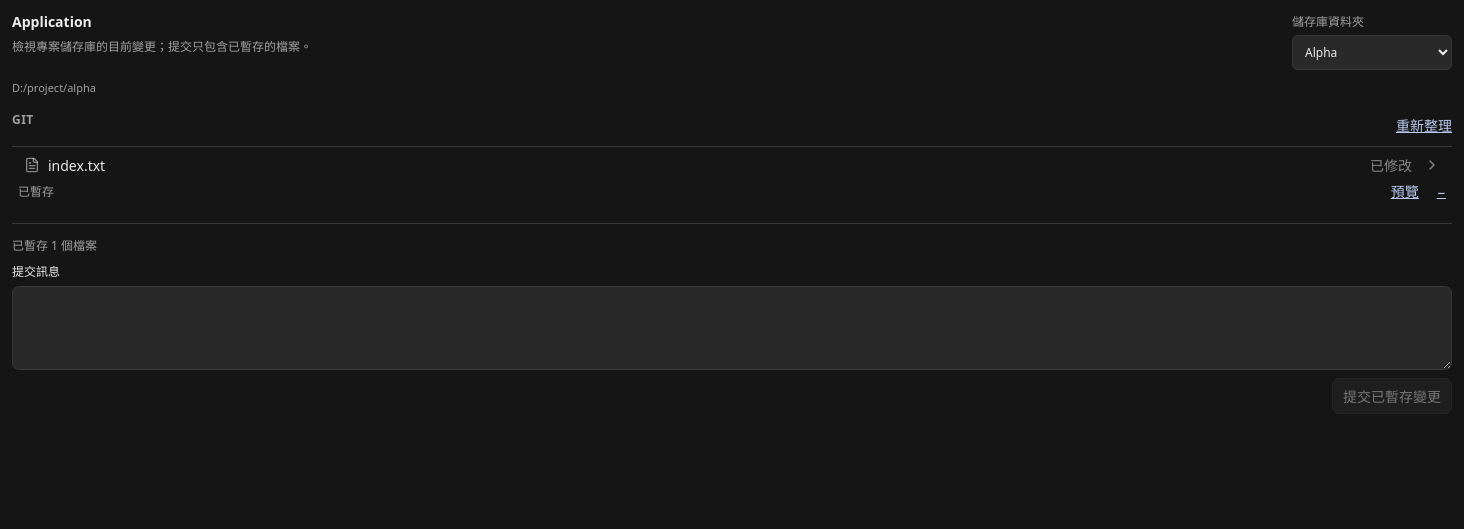
it: ProjectGitPane › preserves the submitted draft and displays the native Git failure reason
Type "Unsent draft" into the text box labelled "提交訊息" at (732, 328), box x1=12 y1=286 x2=1452 y2=370
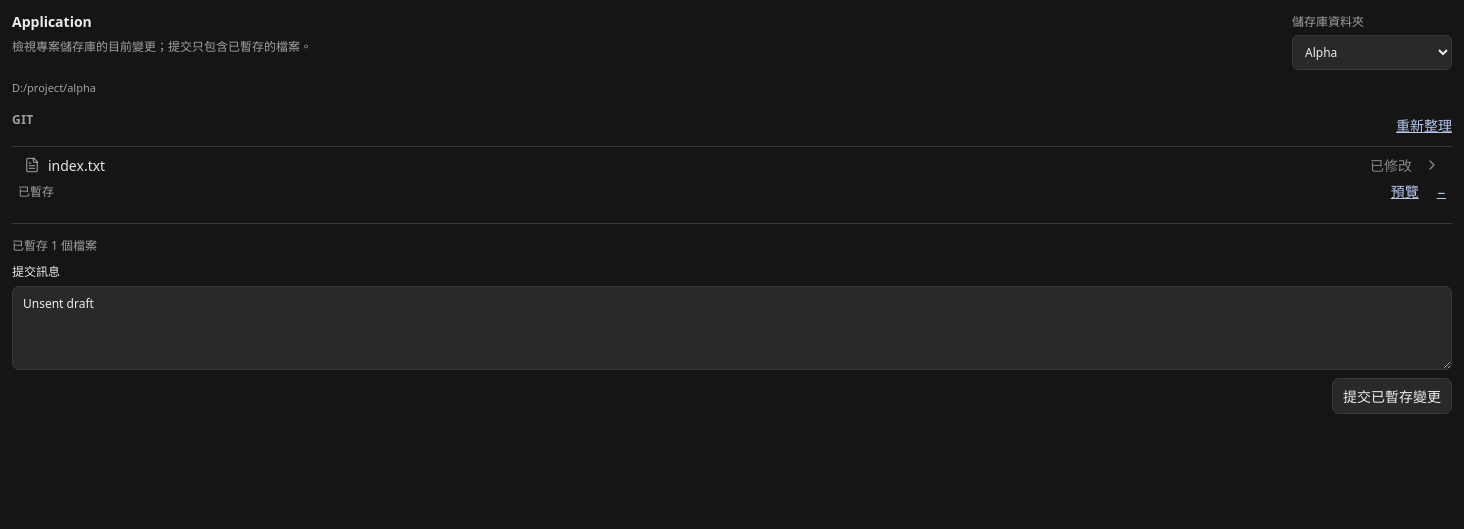
Click the button "提交已暫存變更" at (1392, 396), box x1=1332 y1=378 x2=1452 y2=414
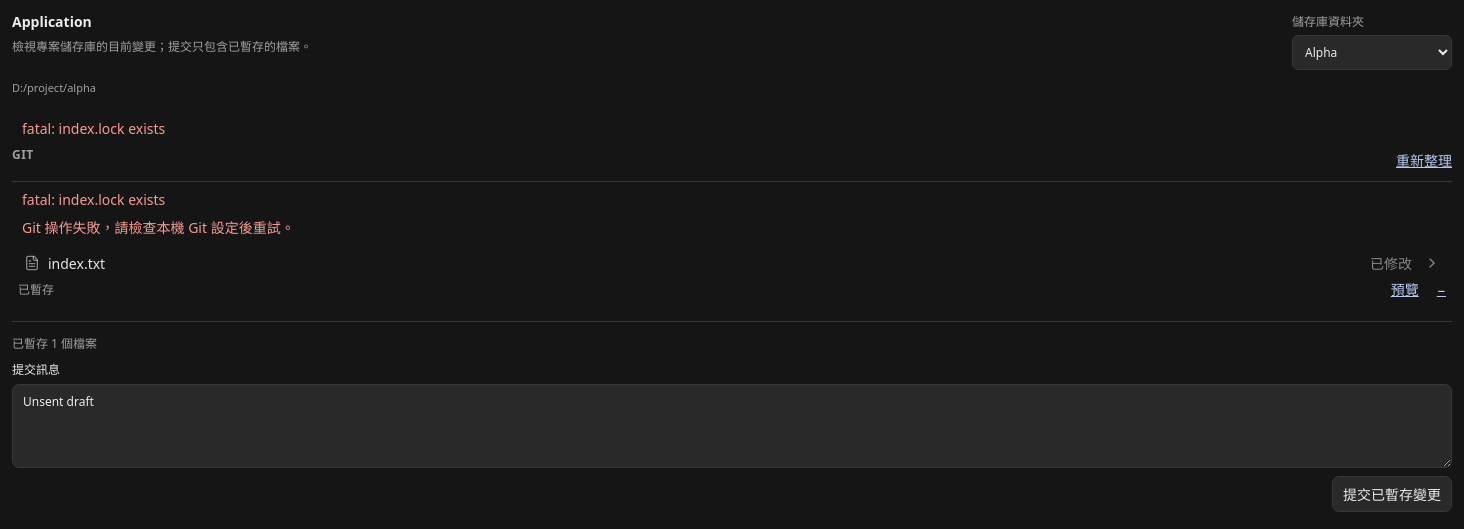
Now the text "fatal: index.lock exists" is shown, box x1=22 y1=119 x2=165 y2=138
